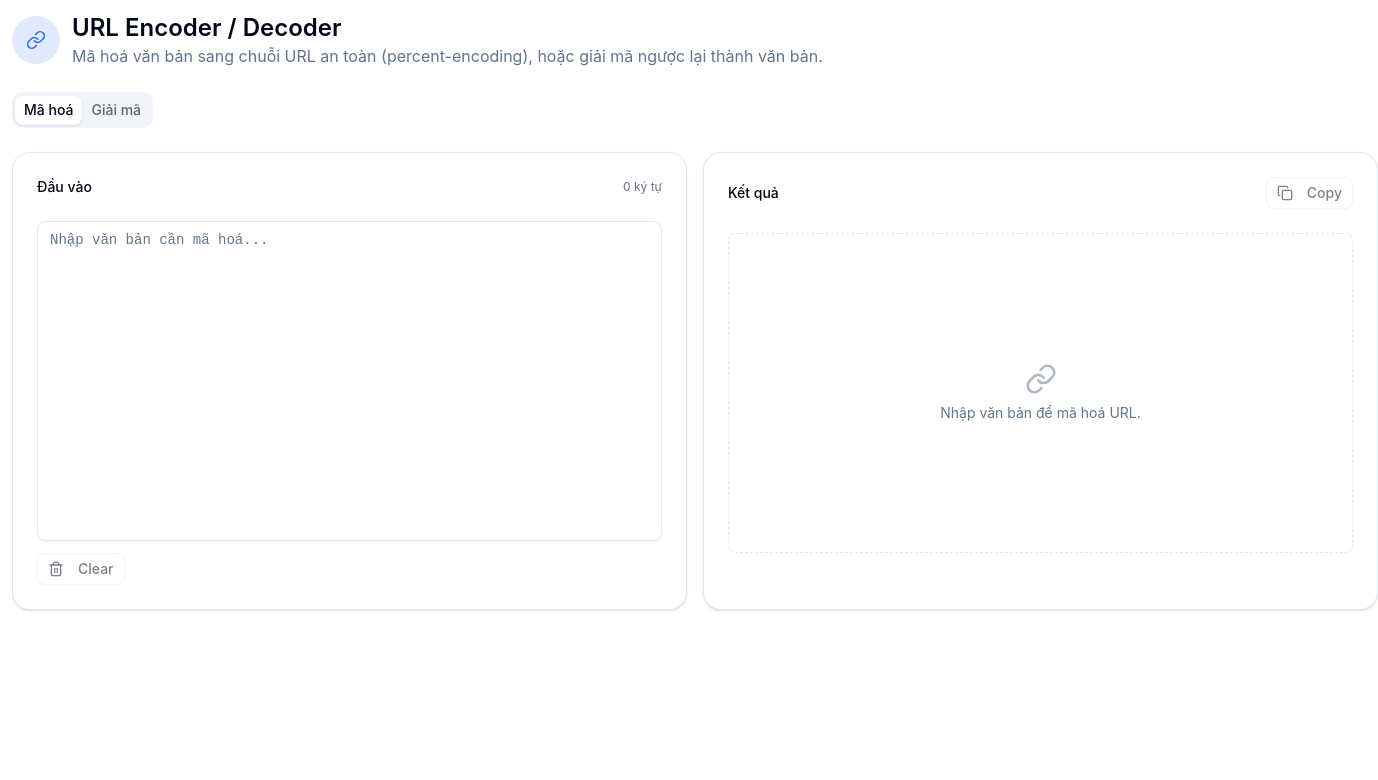
Test: UrlEncoderDecoderScreen › switches to Decode mode and live-decodes the same text field
The width and height of the screenshot is (1378, 780).
Step 1. Click the tab "Giải mã" → (116, 110), box [82,96,150,124]
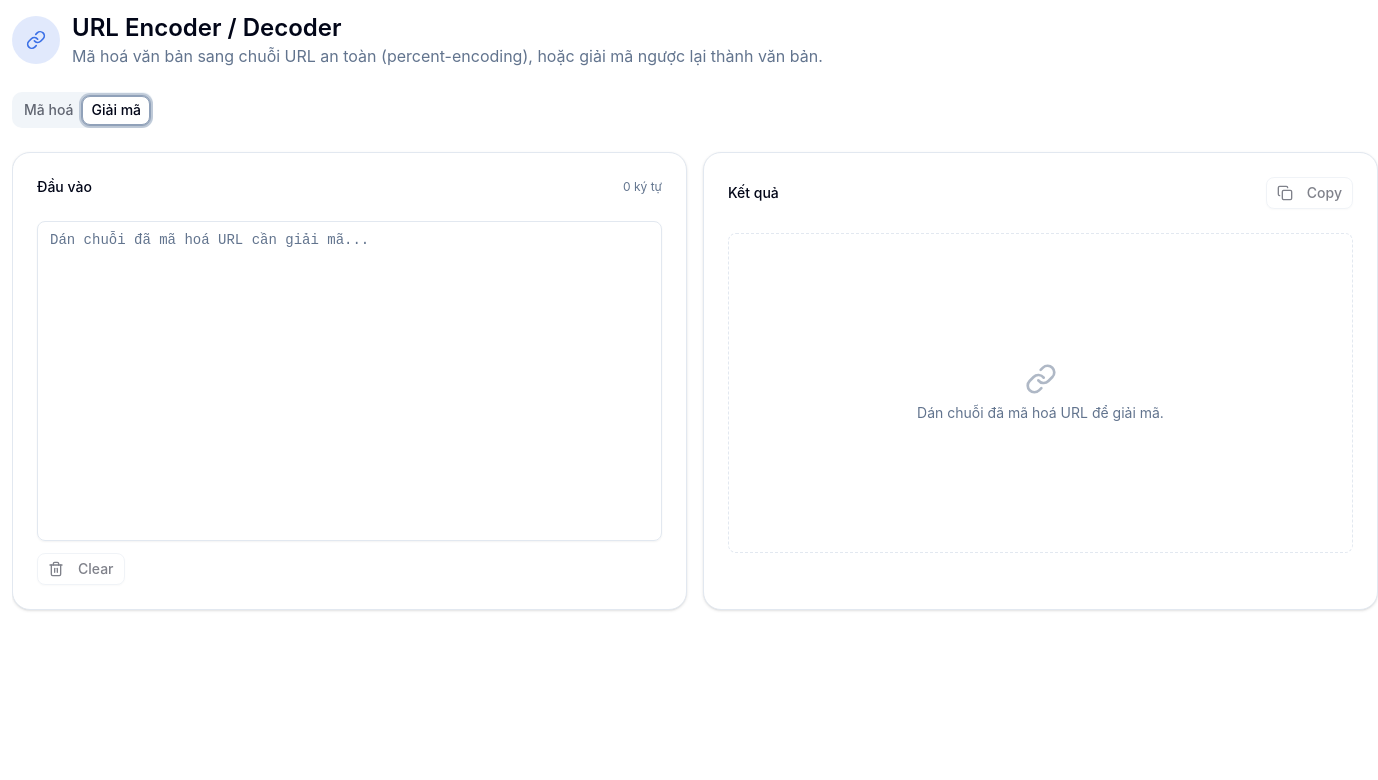
Step 2. Type "hello%20world" into the text box named "Đầu vào" → (350, 381), box [37,221,662,541]
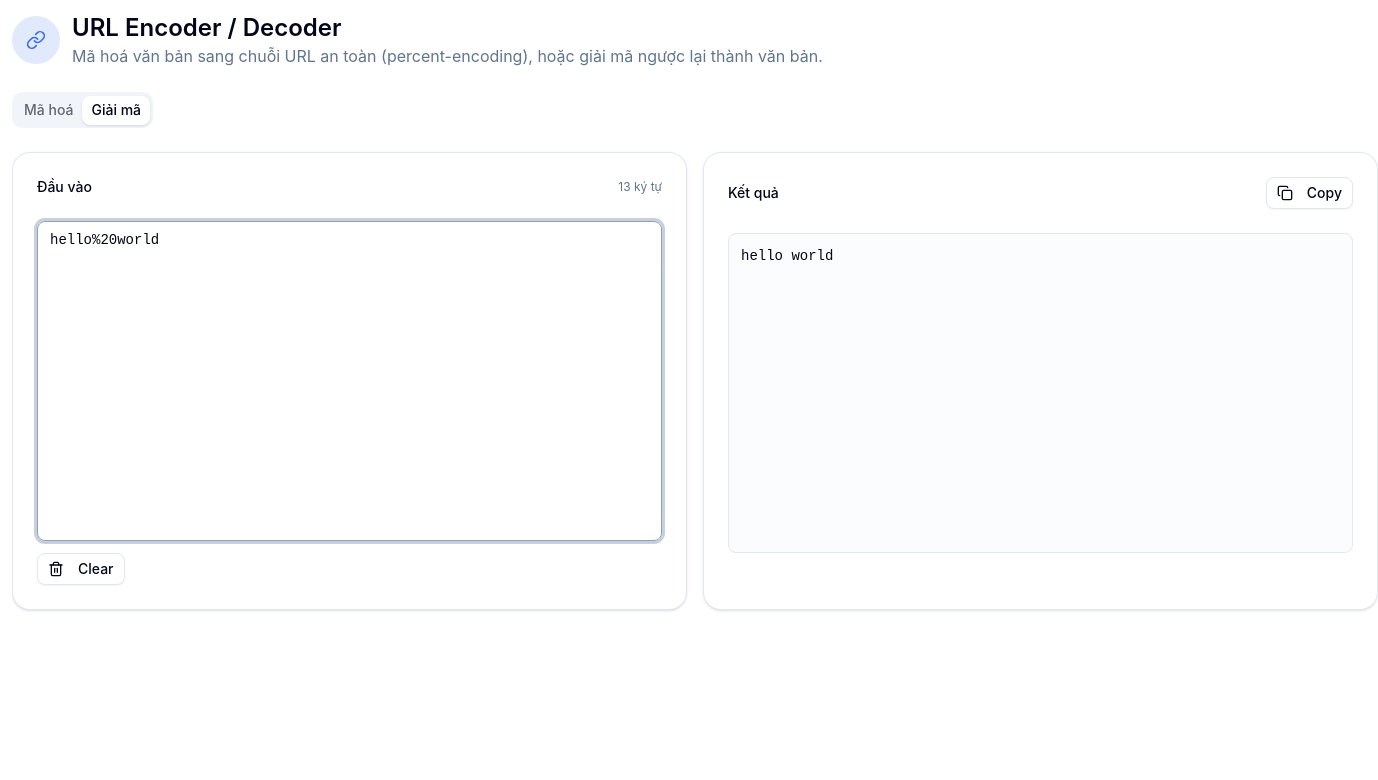
Now the text "hello world" is shown, box [728,233,1353,553]
